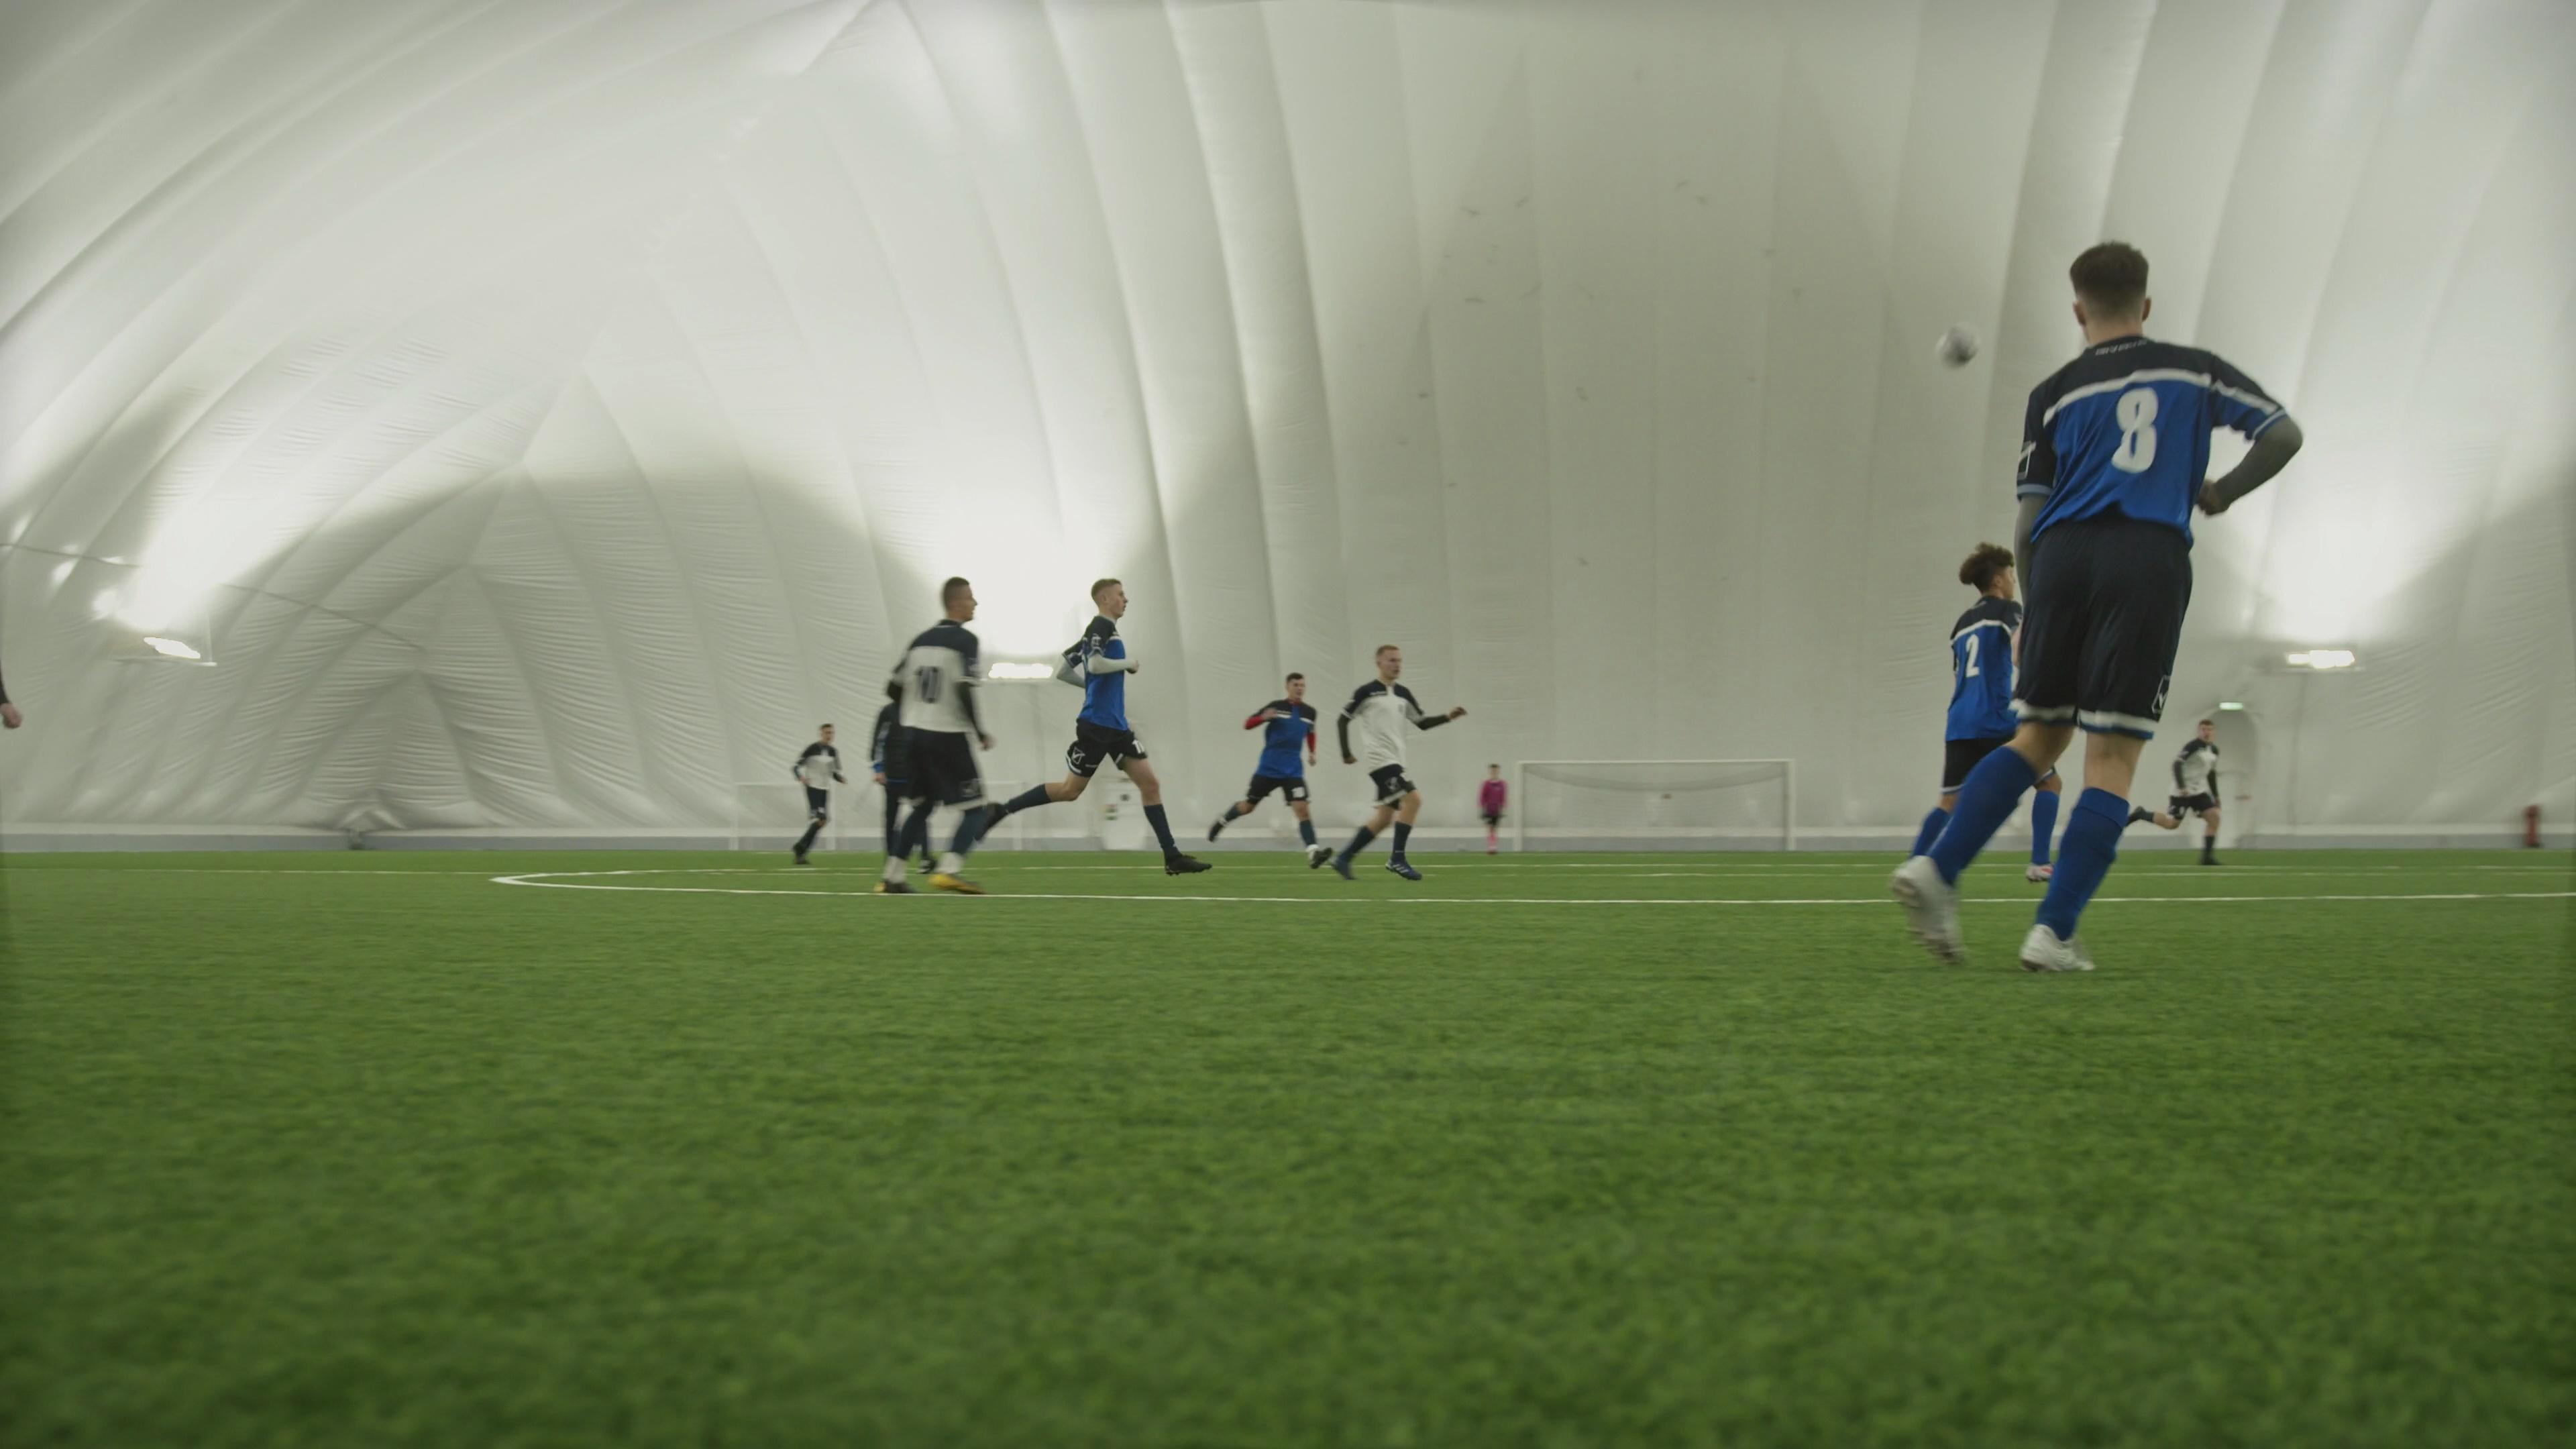other: (865, 681, 901, 872)
team1: (1897, 241, 2304, 980), (952, 579, 1210, 867), (1890, 545, 2036, 952), (1205, 676, 1322, 856)
team1gk: (1477, 763, 1509, 856)
team2: (872, 573, 994, 892), (1322, 644, 1465, 883), (2166, 718, 2227, 863), (787, 724, 846, 865)
